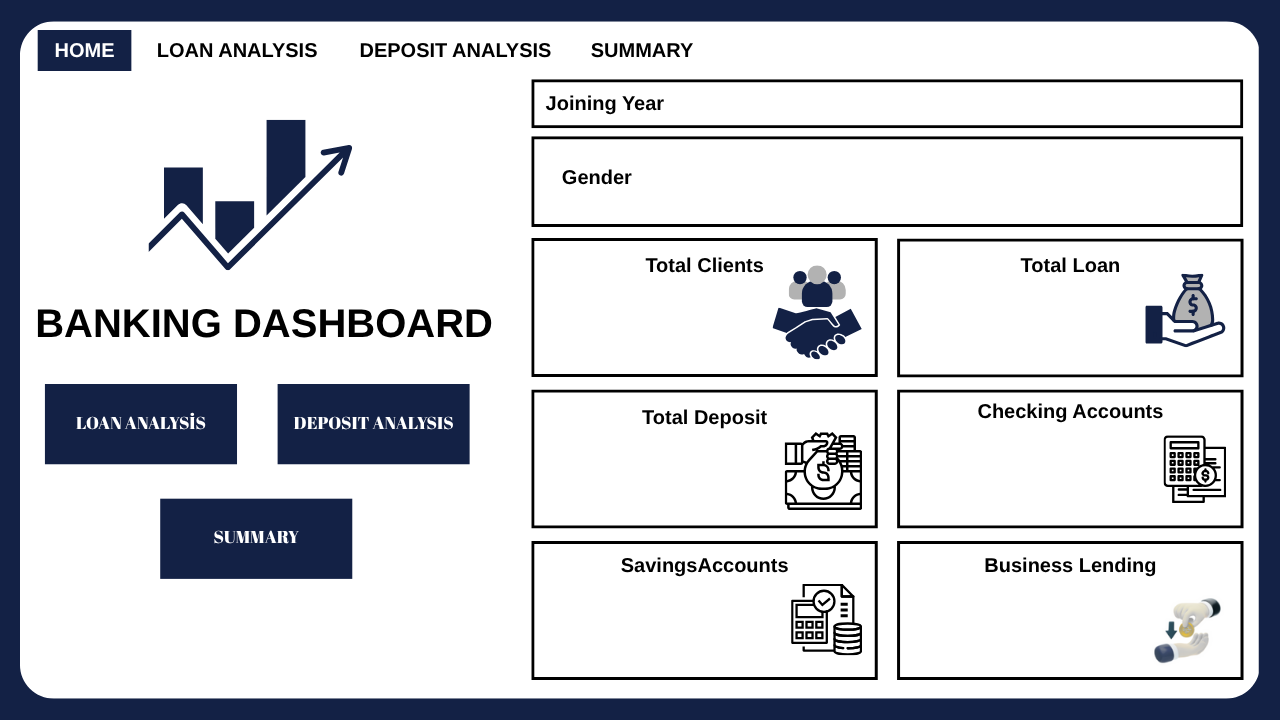

This screenshot's page, from the dashboard's own definition file:
{"tool":"powerbi","page":{"name":"Home","canvas":[1280,720],"ordinal":0},"visuals":[{"type":"card","fields":{"Values":["CountNonNull(Query1.Name)"]},"box":[588.5,274.7,211.7,70.6],"z":0},{"type":"slicer","fields":{"Values":["Query1.GenderId"]},"box":[640.1,142.4,574.6,71.8],"z":1000},{"type":"card","fields":{"Values":["banking_case customer.Total Loan"]},"box":[936.3,274.7,233.1,69.3],"z":2000},{"type":"card","fields":{"Values":["banking_case customer.Total Deposit"]},"box":[567,422.1,233.1,69.3],"z":3000},{"type":"slicer","fields":{"Values":["banking_case customer.Year of Joining"]},"box":[659,79.4,579.6,40.3],"z":4000},{"type":"card","fields":{"Values":["Sum(banking_case customer.Saving Accounts)"]},"box":[567,579.6,233.1,69.3],"z":5000},{"type":"card","fields":{"Values":["Sum(banking_case customer.Checking Accounts)"]},"box":[936.3,422.1,233.1,69.3],"z":6000},{"type":"card","fields":{"Values":["Sum(banking_case customer.Business Lending)"]},"box":[936.3,580.9,233.1,69.3],"z":7000},{"type":"actionButton","box":[56.7,395.7,158.8,51.7],"z":8000},{"type":"actionButton","box":[287.3,395.7,172.6,46.6],"z":9000},{"type":"actionButton","box":[185.2,514.1,142.4,41.6],"z":10000},{"type":"actionButton","box":[147.4,29,180.2,40.3],"z":11000},{"type":"actionButton","box":[345.3,29,209.2,40.3],"z":12000},{"type":"actionButton","box":[567,29,163.8,40.3],"z":13000}]}

Visuals, with their boxes in screenshot pixels (x1, y1, x2, y2), scaled from the page's 1280x720 canvas onto the 1280x720 screenshot:
card - CountNonNull(Query1.Name): (588,275,800,345)
slicer - Query1.GenderId: (640,142,1215,214)
card - banking_case customer.Total Loan: (936,275,1169,344)
card - banking_case customer.Total Deposit: (567,422,800,491)
slicer - banking_case customer.Year of Joining: (659,79,1239,120)
card - Sum(banking_case customer.Saving Accounts): (567,580,800,649)
card - Sum(banking_case customer.Checking Accounts): (936,422,1169,491)
card - Sum(banking_case customer.Business Lending): (936,581,1169,650)
actionButton: (57,396,216,447)
actionButton: (287,396,460,442)
actionButton: (185,514,328,556)
actionButton: (147,29,328,69)
actionButton: (345,29,554,69)
actionButton: (567,29,731,69)
